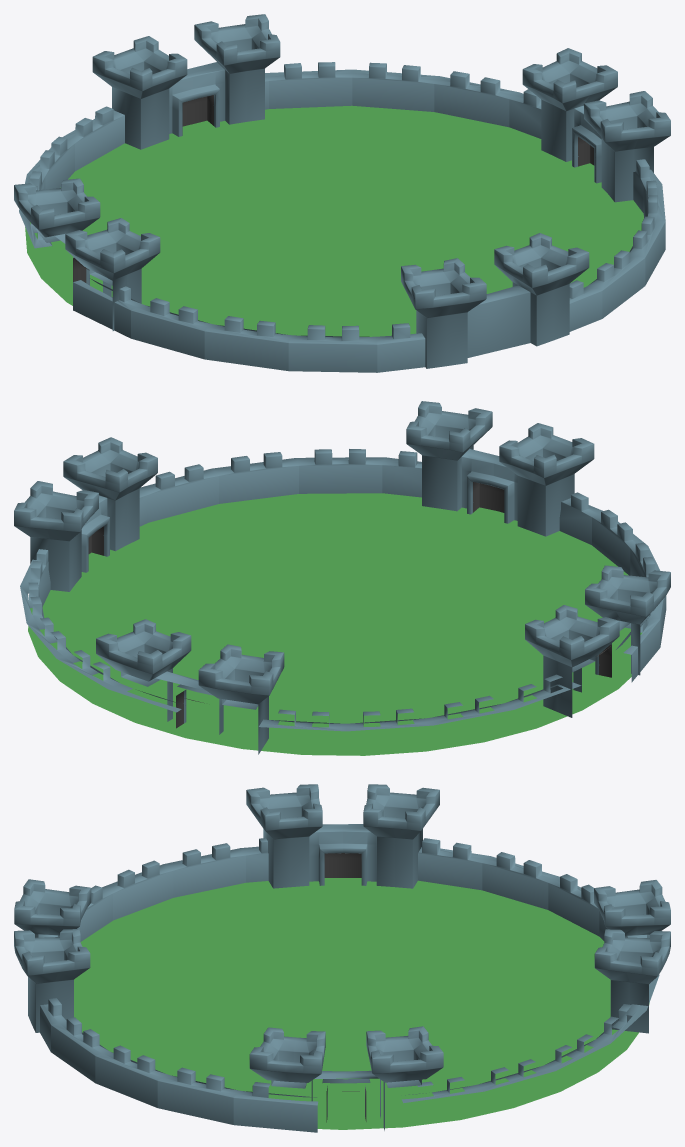
The model's file is island.002.optimised.glb.
The picture shows the model from 3 angles, top to bottom: view 1: azimuth 30°, elevation 25°; view 2: azimuth 150°, elevation 25°; view 3: azimuth 270°, elevation 25°; orthographic projection. The views are drawn at different scales.
Parts seen in each view (by area): view 1: island.002.optimised; view 2: island.002.optimised; view 3: island.002.optimised.
Part boxes in pixels (bbox=[...]): island.002.optimised: bbox=[14, 14, 670, 372]; island.002.optimised: bbox=[14, 401, 670, 755]; island.002.optimised: bbox=[14, 784, 670, 1132].
Bounding box in the file's own units: 93.25 × 12.52 × 94.13.
